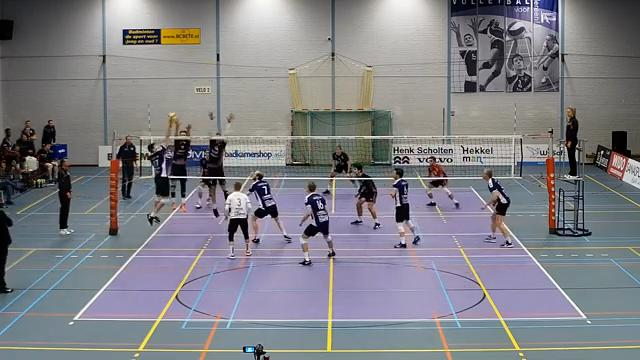Attack: (140, 122, 172, 226)
Block: (203, 109, 235, 222), (168, 118, 192, 215)
Player: (249, 171, 291, 243), (300, 182, 335, 265), (481, 169, 513, 247), (390, 168, 420, 247), (225, 182, 251, 258), (351, 163, 380, 229), (426, 156, 459, 208), (323, 145, 351, 194), (195, 157, 211, 208)
ball: (166, 111, 177, 123)
